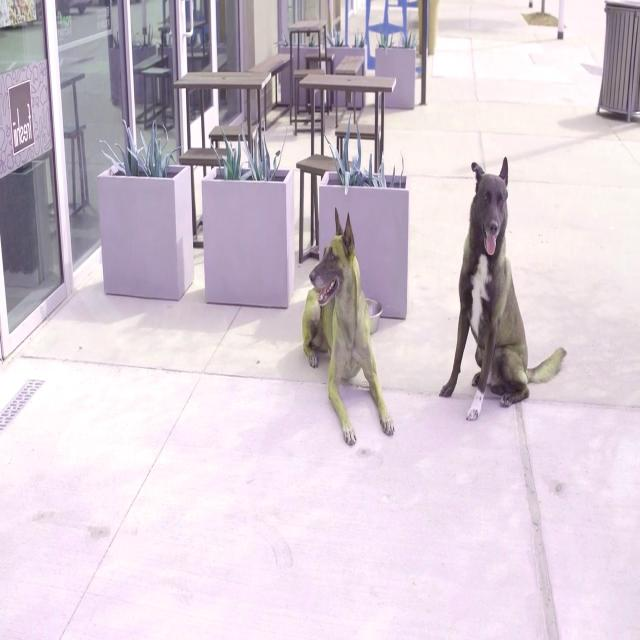Dog: (438, 158, 568, 420), (303, 207, 395, 445)
